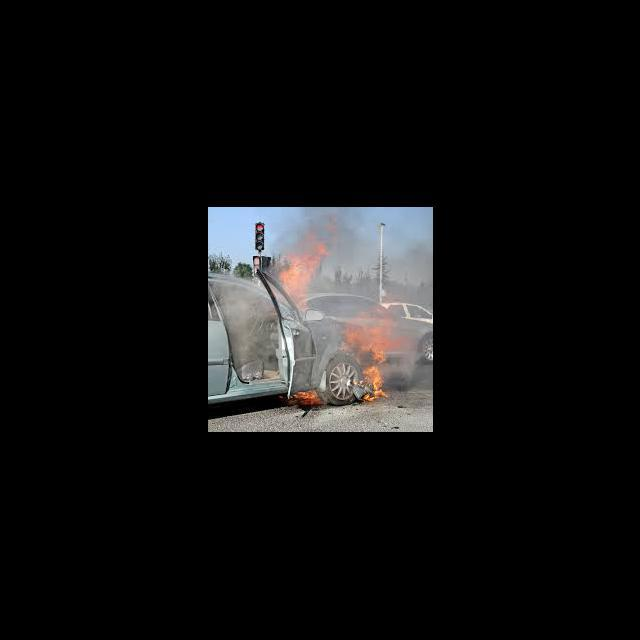Fire: (280, 220, 338, 302), (346, 300, 424, 353), (356, 352, 386, 402), (292, 384, 322, 410)
Smoke: (221, 282, 266, 363), (340, 212, 372, 292), (393, 231, 430, 297), (388, 356, 432, 390)
